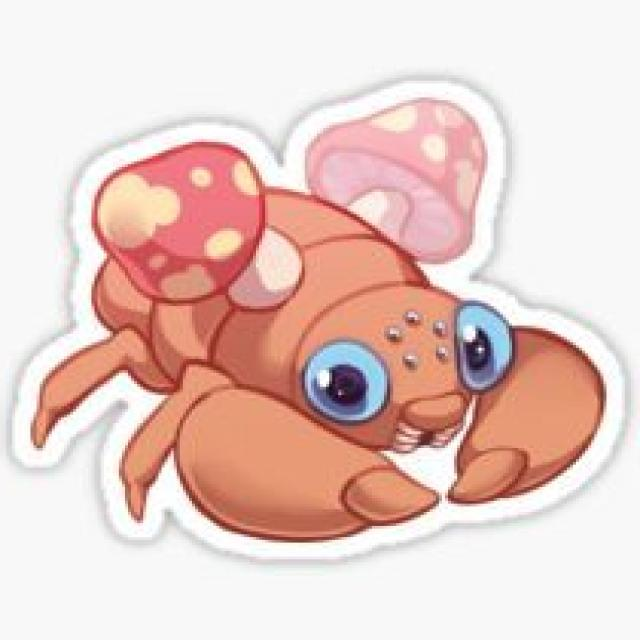Paras: (79, 94, 612, 551)
